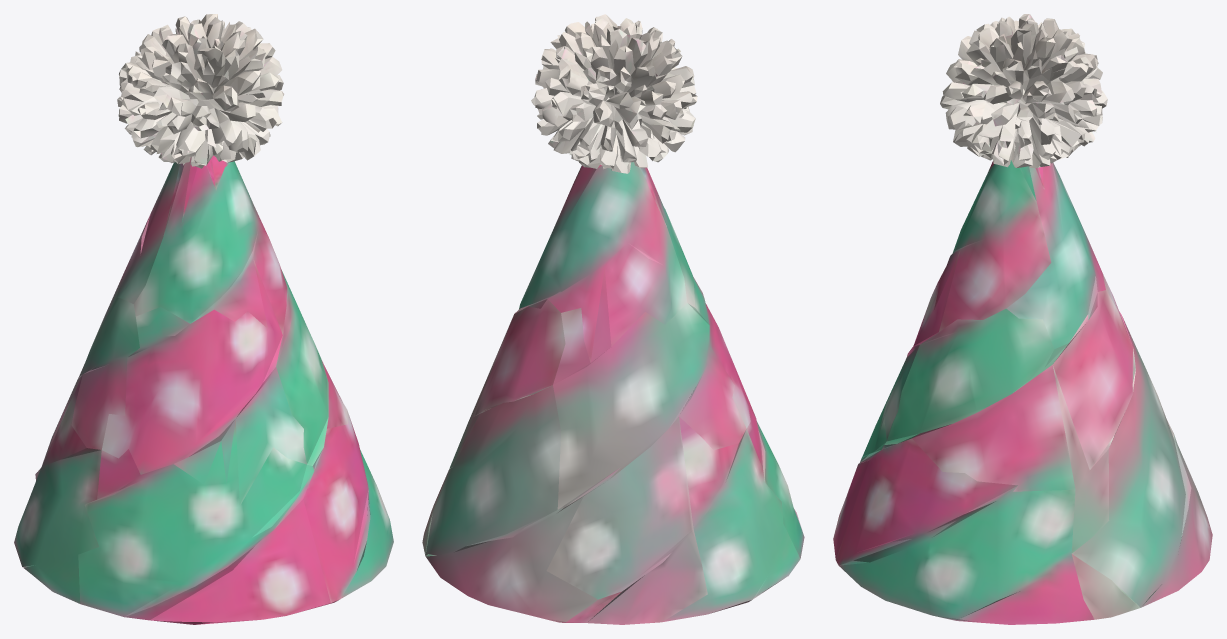
File: party_hat.glb
3 views of the same model, side by side, from view 1: azimuth 30°, elevation 25°; view 2: azimuth 150°, elevation 25°; view 3: azimuth 270°, elevation 25° (orthographic).
Size of the model in its own units: 1.25 by 1.9 by 1.25.
1 material, 1 textured.
